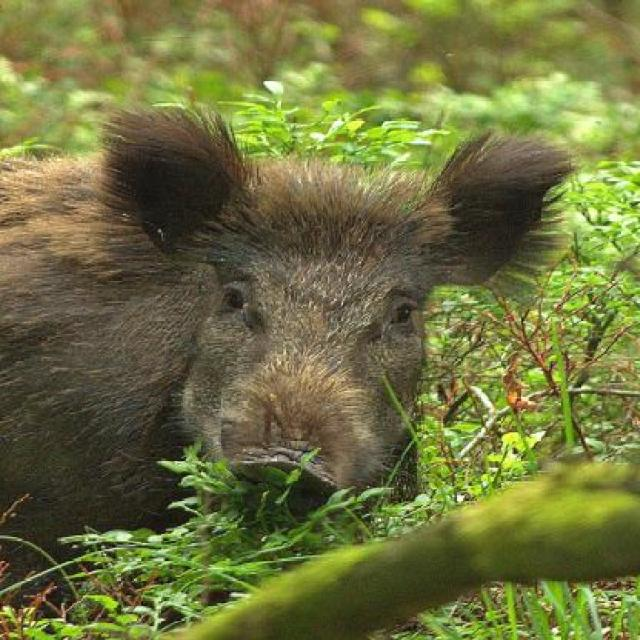wildboar: (0, 100, 575, 640)
